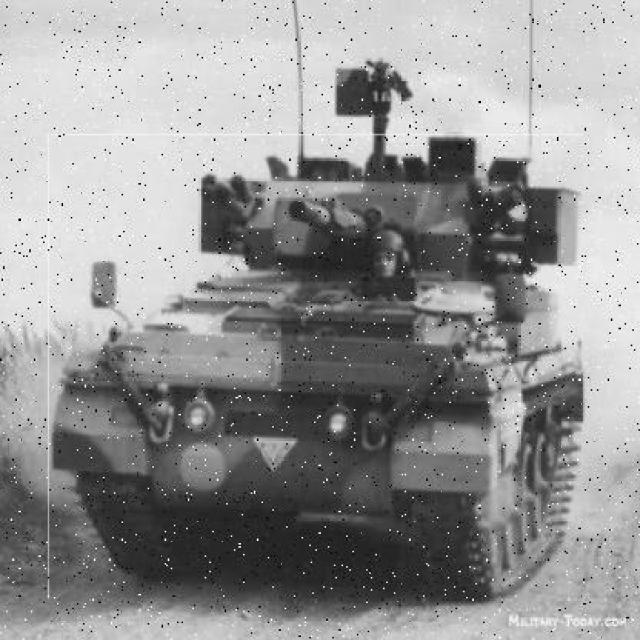Tank: (49, 135, 586, 601)
